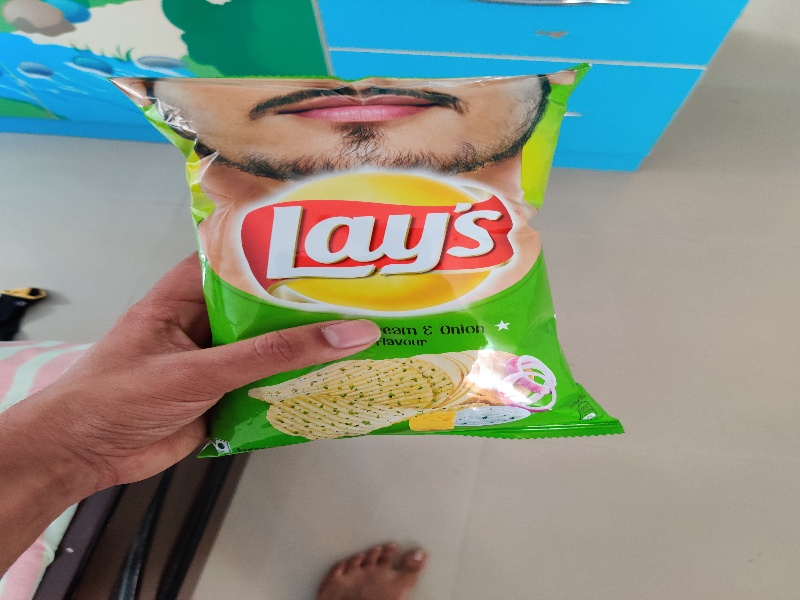lays: (105, 63, 632, 458)
